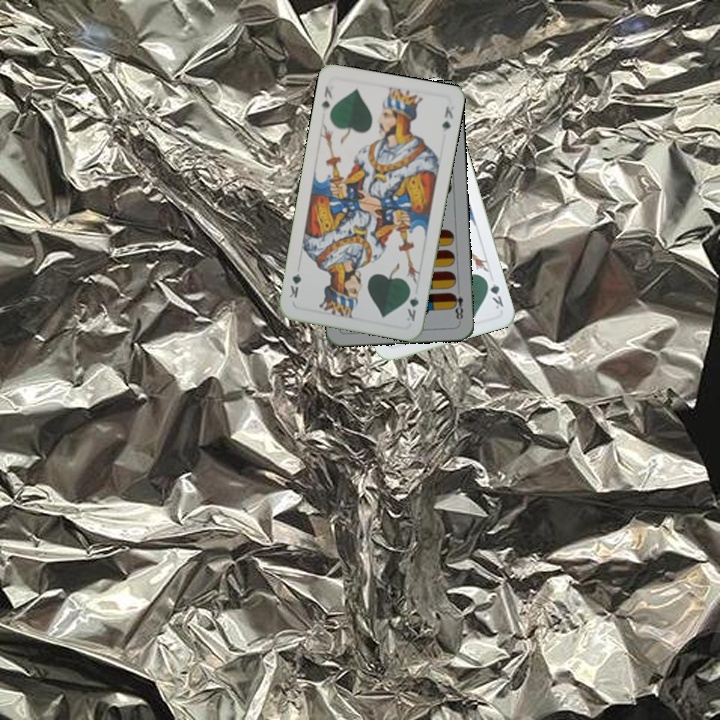E8: (448, 289, 466, 324)
GK: (482, 274, 506, 312), (402, 284, 421, 324), (318, 82, 335, 111)
